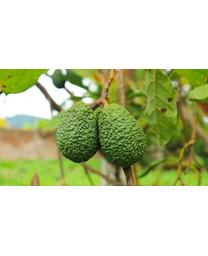avocado: (94, 103, 146, 168), (55, 100, 99, 164)
